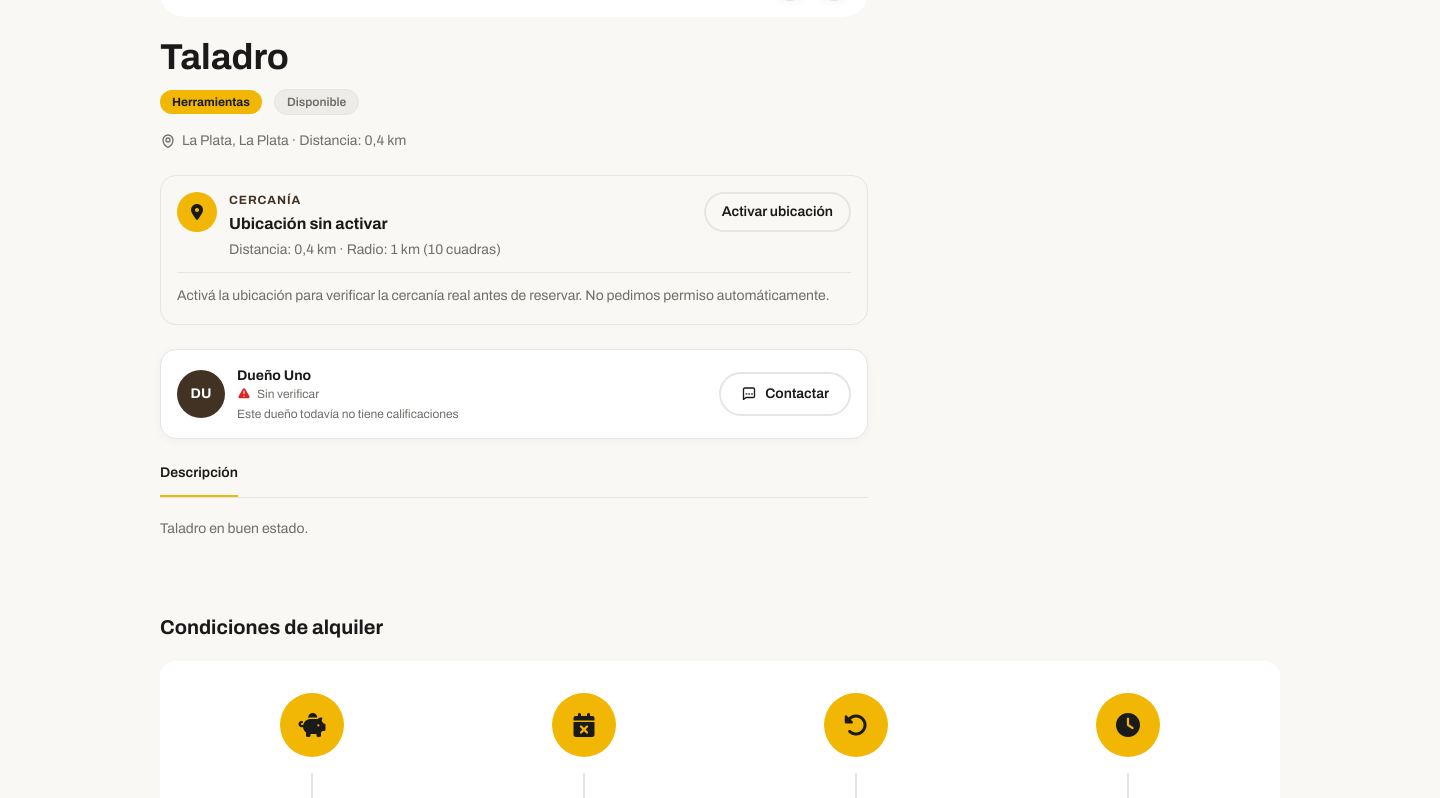
DetalleProducto — calificación del dueño › muestra el error de creación sin perder el acceso a reintentar
The width and height of the screenshot is (1440, 798).
(page scrolled)
What coordinates should you click on to do the following:
click the button "Contactar"
I would click on:
 (785, 394)
Its box is [719,372,851,416].
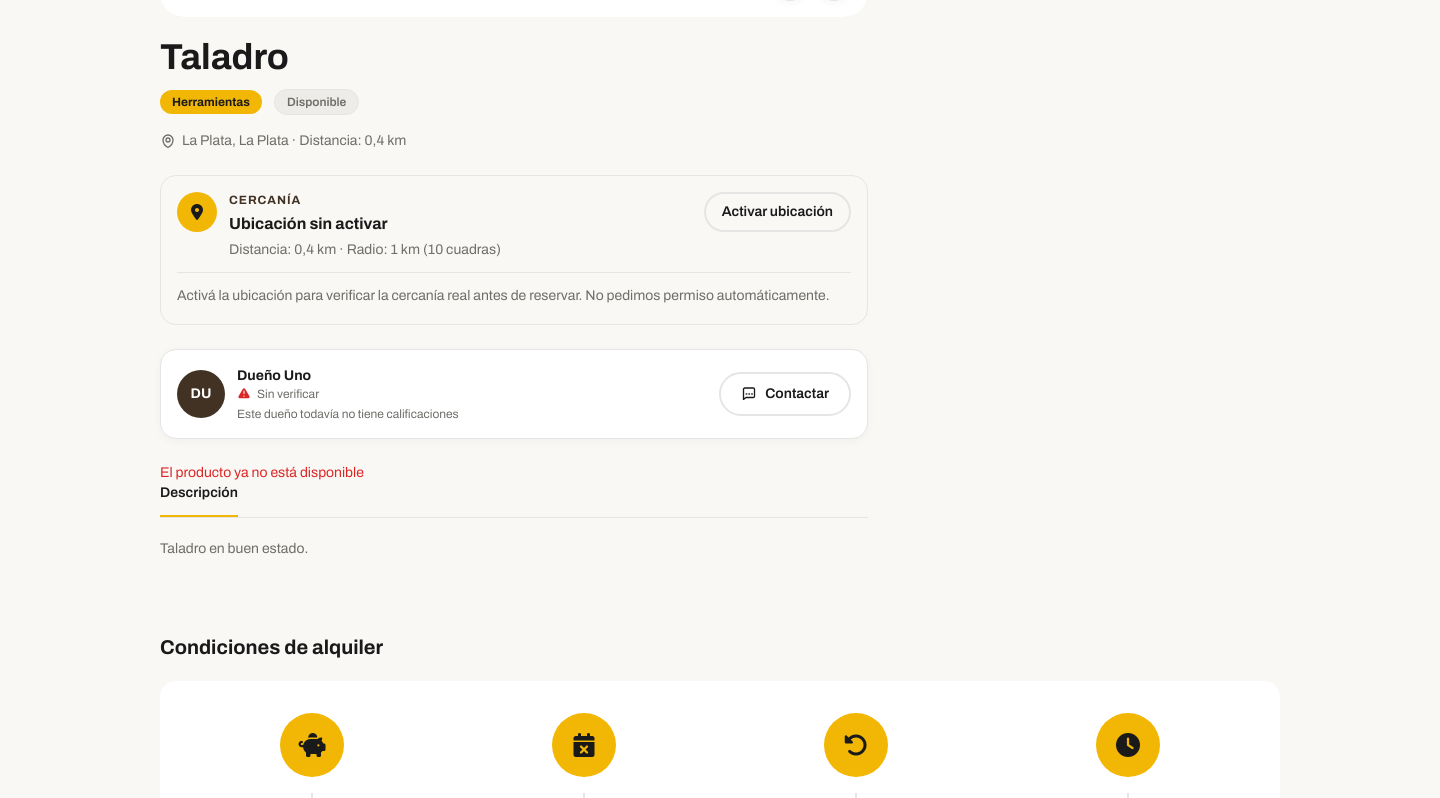
Now the message reads "El producto ya no está disponible", box [160,465,364,480]
